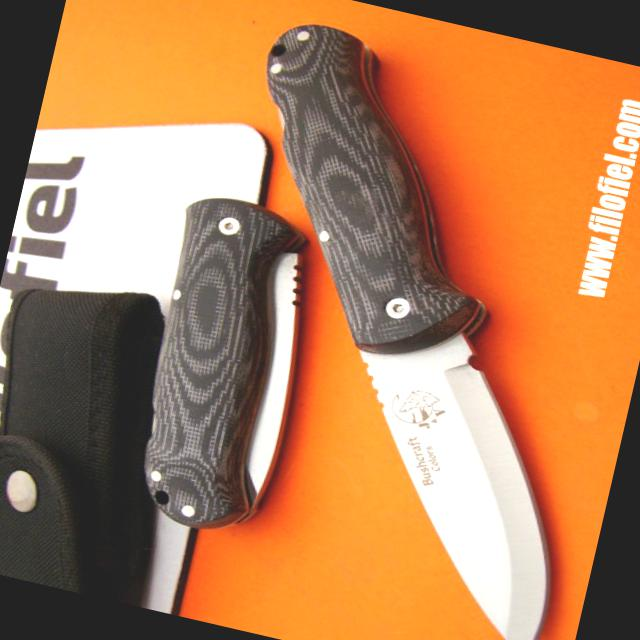knife: (254, 231, 628, 639)
